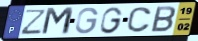B: (149, 5, 177, 34)
C: (125, 6, 153, 34)
G: (74, 7, 100, 36), (99, 6, 124, 35)
M: (40, 6, 76, 37)
Z: (19, 8, 49, 36)
